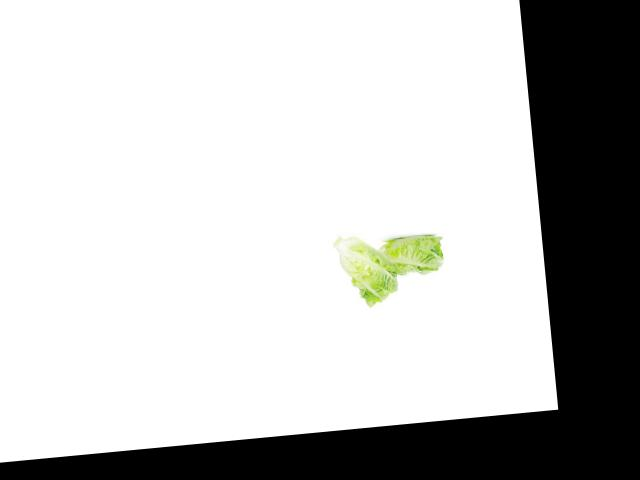lettuce: (330, 225, 407, 307)
